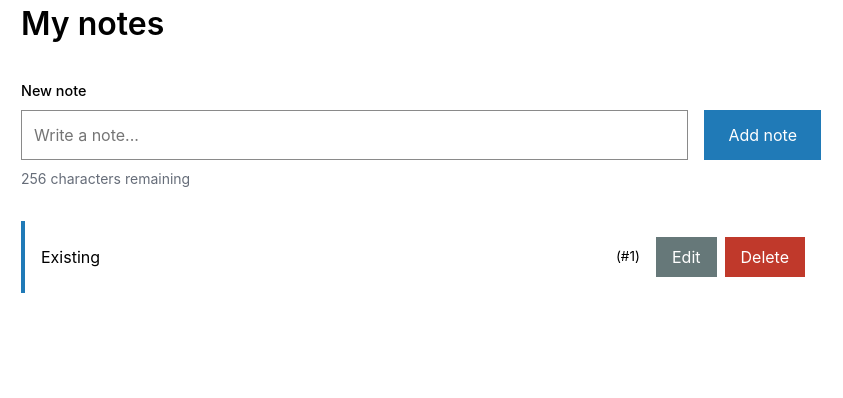
Test: NotesPage › adding a note › puts it at the top of the list, empties the field and announces it
This screenshot has width=843, height=398.
Expected: the text "Existing" is shown, left=41, top=247, right=100, bottom=267
Type "Fresh" into the field labelled "New note" at {"x": 355, "y": 135}, box left=21, top=110, right=688, bottom=160
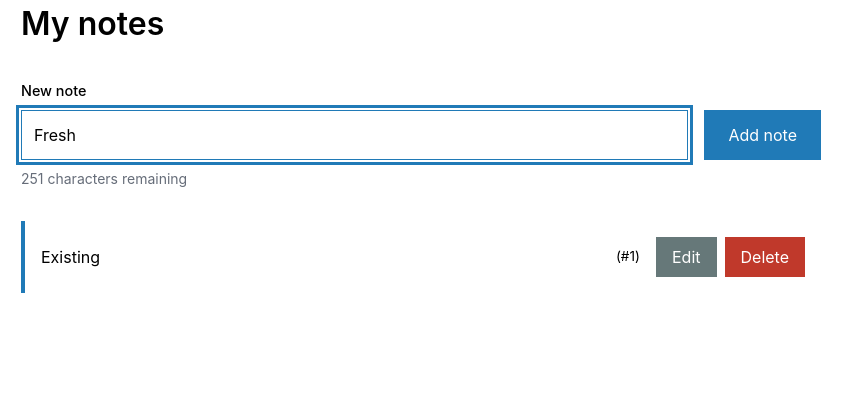
Click the button "Add note" at {"x": 763, "y": 135}, box left=704, top=110, right=821, bottom=160
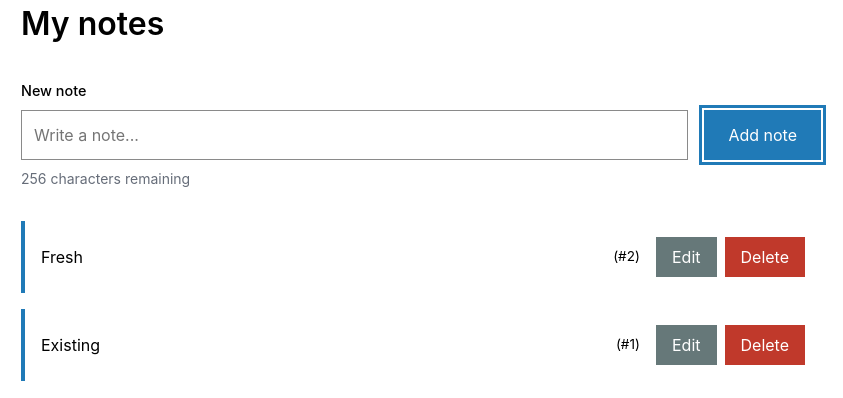
Expected: the text "Fresh" is shown, left=41, top=247, right=83, bottom=267
Expected: the field labelled "New note" is empty, left=21, top=110, right=688, bottom=160
